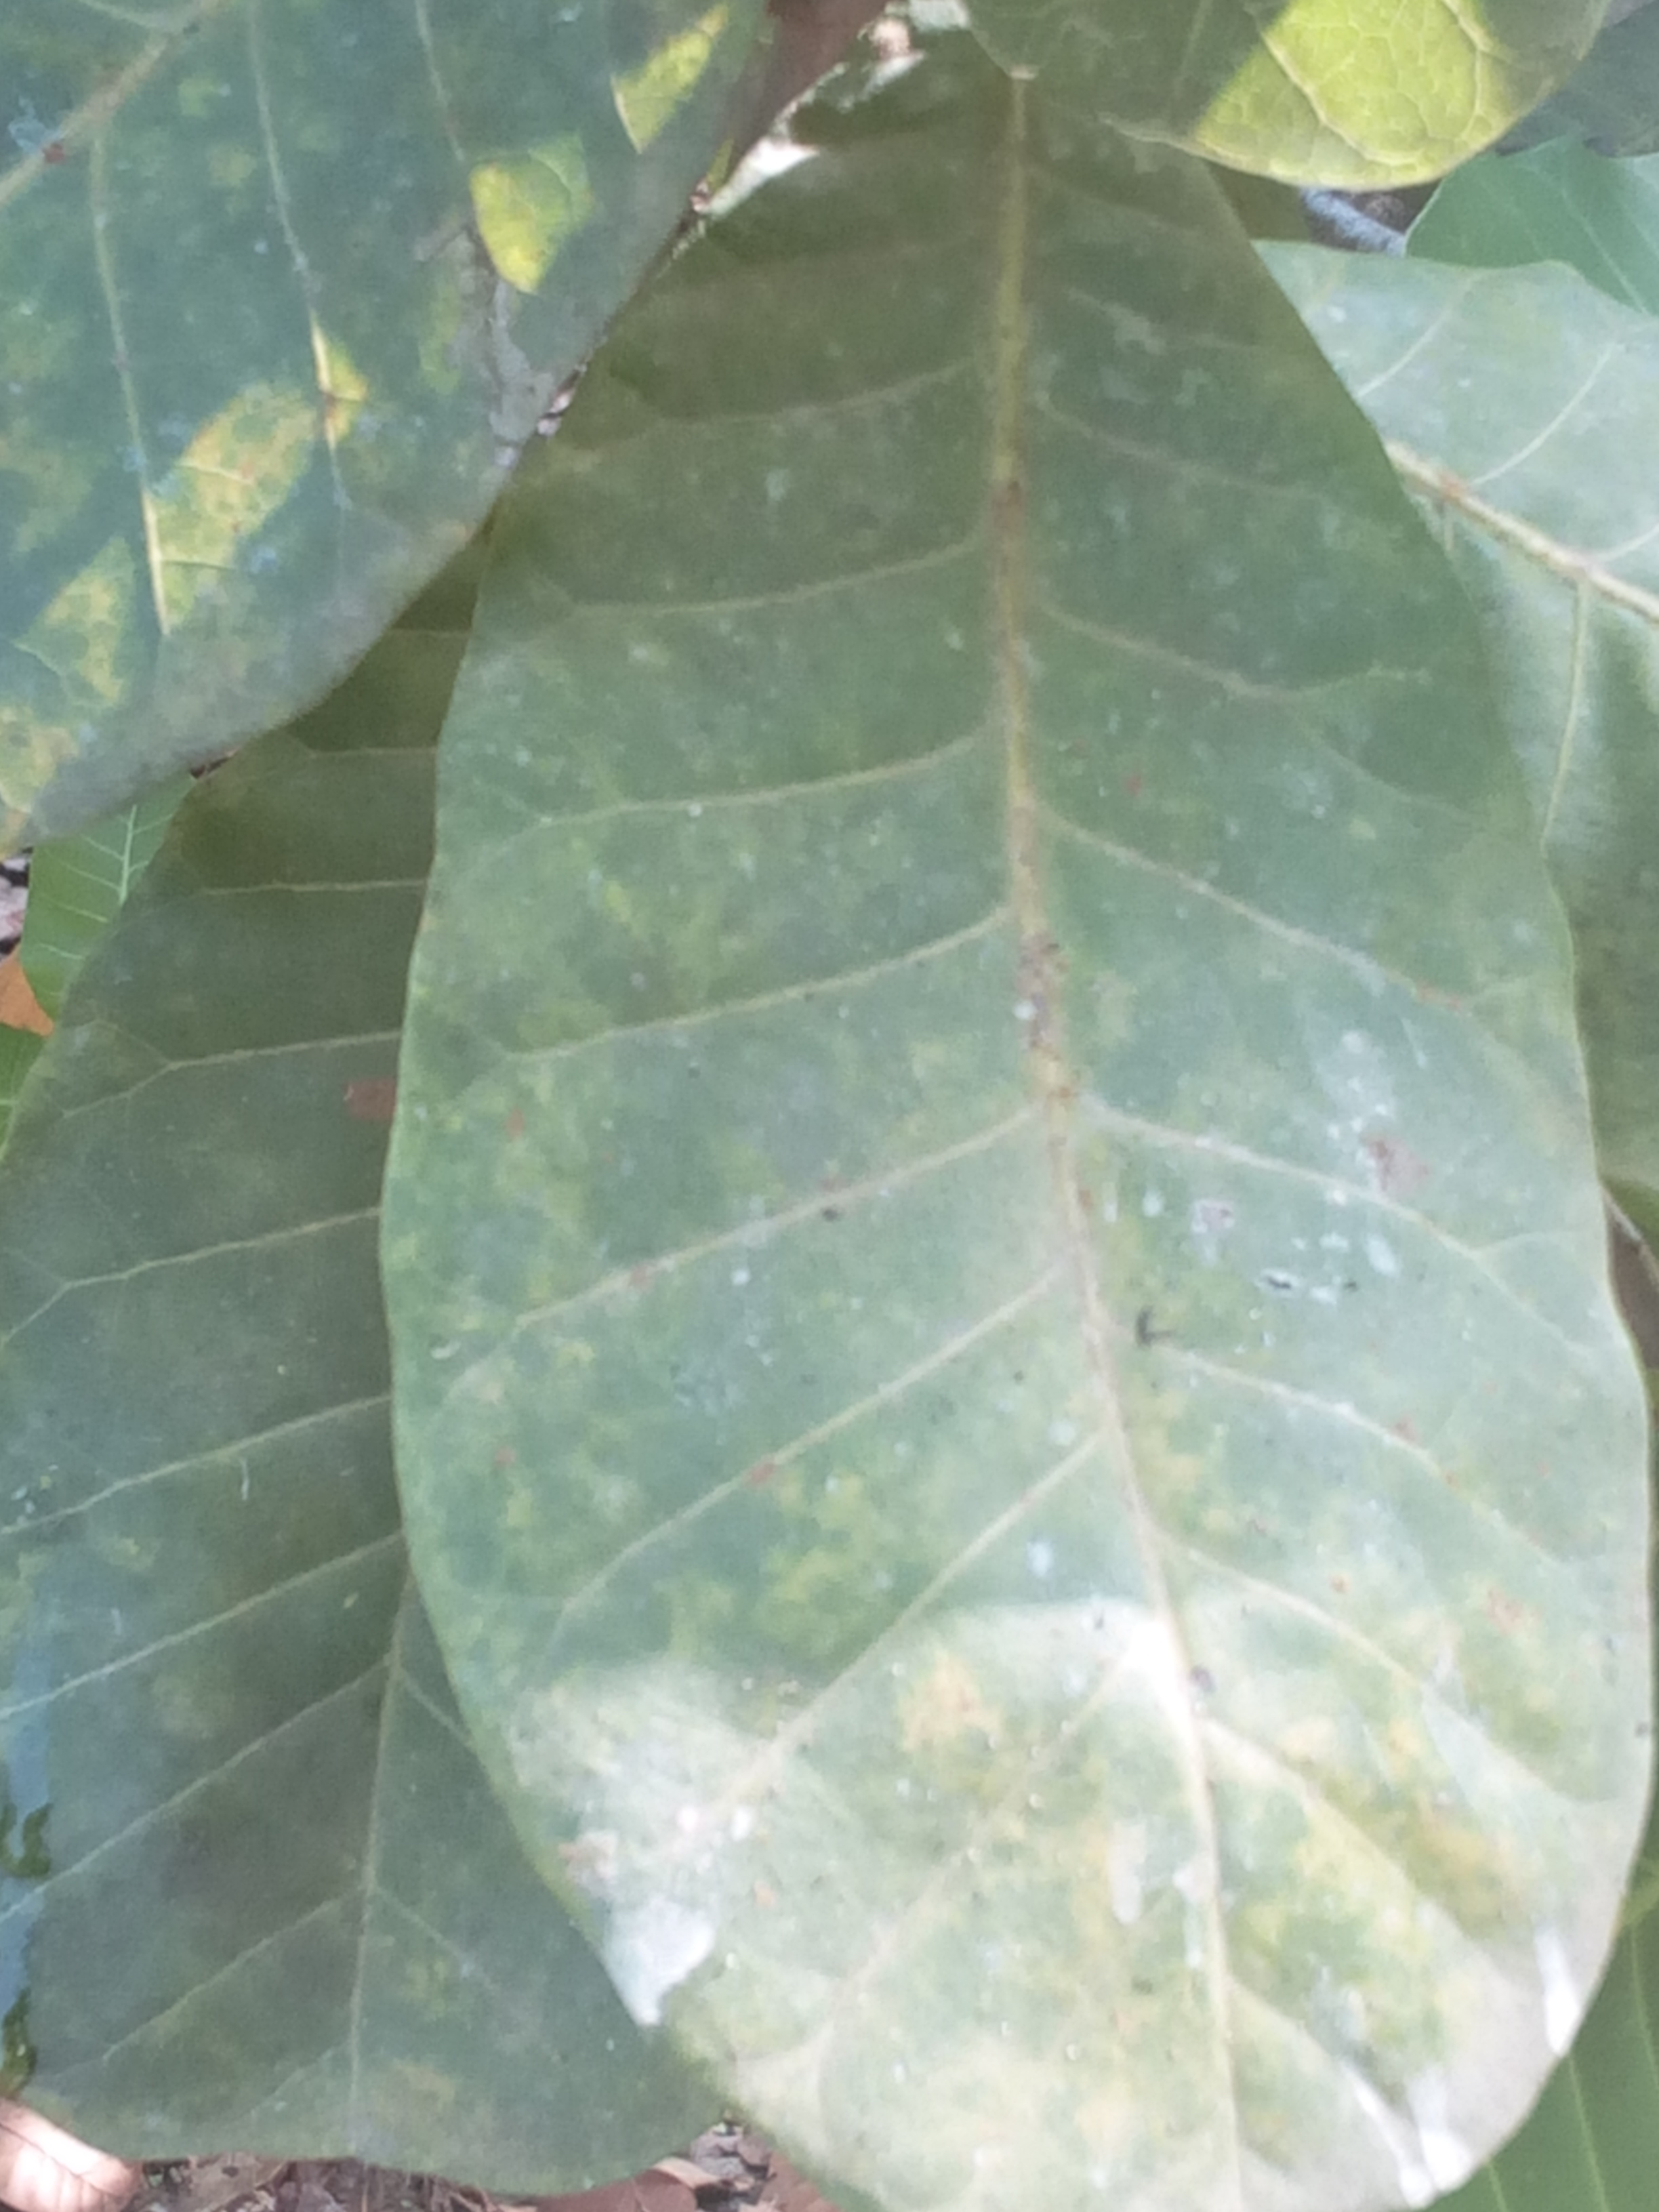Alternariose: (420, 0, 1633, 2177), (0, 0, 692, 834)
